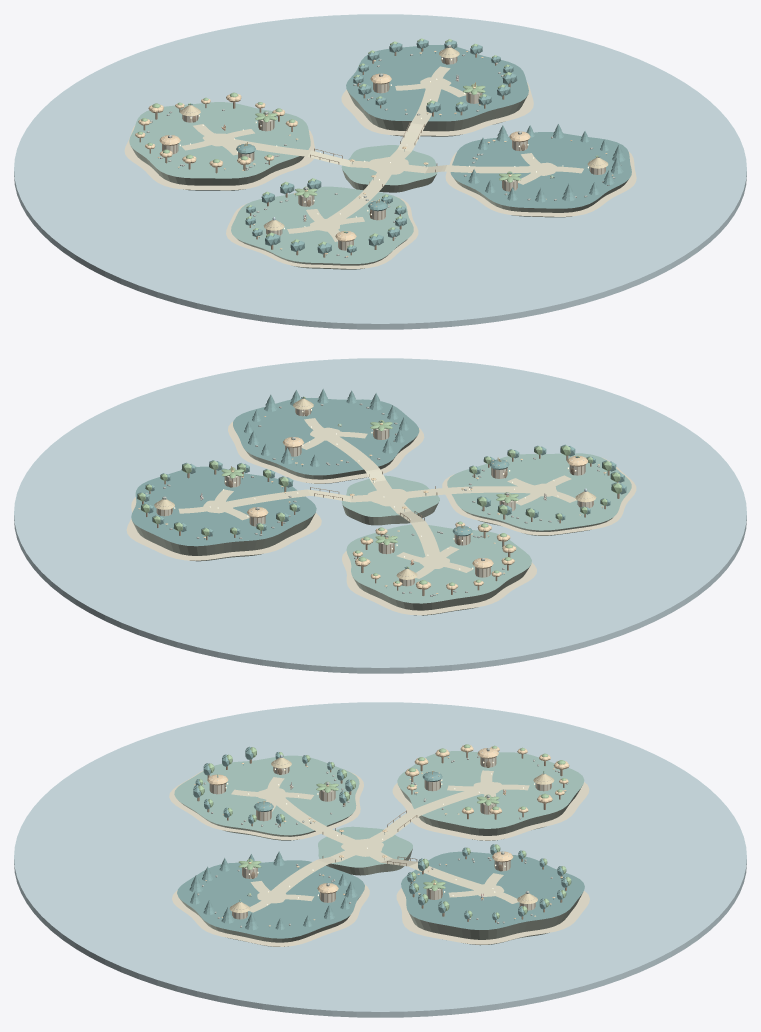
The model's file is grade6-terrain.glb.
The picture shows the model from 3 angles, top to bottom: view 1: azimuth 30°, elevation 25°; view 2: azimuth 150°, elevation 25°; view 3: azimuth 270°, elevation 25°; orthographic projection.
Visible parts, largest first — view 1: Nature_water, Walk_Nature_grass, Walk_Nature_deep, Walk_Nature_path, Nature_sand, Nature_deep, Nature_soil, Nature_flower, Nature_cream, Nature_leaf, Nature_wood, Nature_reed; view 2: Nature_water, Walk_Nature_grass, Walk_Nature_deep, Walk_Nature_path, Nature_sand, Nature_soil, Nature_deep, Nature_leaf, Nature_flower, Nature_cream, Nature_wood, Nature_reed (+1 smaller); view 3: Nature_water, Walk_Nature_grass, Walk_Nature_deep, Walk_Nature_path, Nature_sand, Nature_soil, Nature_deep, Nature_leaf, Nature_cream, Nature_flower, Nature_wood, Nature_reed.
Part boxes in pixels (<box>): Nature_water: <box>14,14,746,329</box>; Walk_Nature_grass: <box>129,102,437,263</box>; Walk_Nature_deep: <box>346,45,631,208</box>; Walk_Nature_path: <box>181,66,583,241</box>; Nature_sand: <box>124,82,636,268</box>; Nature_deep: <box>158,39,625,255</box>; Nature_soil: <box>131,90,628,269</box>; Nature_flower: <box>135,51,613,256</box>; Nature_cream: <box>162,51,605,250</box>; Nature_leaf: <box>137,38,598,247</box>; Nature_wood: <box>139,48,605,257</box>; Nature_reed: <box>180,47,608,230</box>; Nature_water: <box>14,358,746,673</box>; Walk_Nature_grass: <box>341,453,631,603</box>; Walk_Nature_deep: <box>131,398,419,546</box>; Walk_Nature_path: <box>178,418,576,578</box>; Nature_sand: <box>126,421,636,615</box>; Nature_soil: <box>132,436,612,615</box>; Nature_deep: <box>137,389,626,594</box>; Nature_leaf: <box>138,397,621,585</box>; Nature_flower: <box>138,416,606,593</box>; Nature_cream: <box>157,401,593,586</box>; Nature_wood: <box>142,408,619,595</box>; Nature_reed: <box>154,398,596,579</box>; Nature_water: <box>14,702,746,1017</box>; Walk_Nature_grass: <box>174,751,584,867</box>; Walk_Nature_deep: <box>177,851,584,938</box>; Walk_Nature_path: <box>231,770,529,912</box>; Nature_sand: <box>169,770,589,946</box>; Nature_soil: <box>178,787,582,946</box>; Nature_deep: <box>189,746,568,930</box>; Nature_leaf: <box>198,744,571,918</box>; Nature_cream: <box>210,749,551,919</box>; Nature_flower: <box>194,745,569,926</box>; Nature_wood: <box>197,752,566,922</box>; Nature_reed: <box>229,757,554,912</box>.
Size of the model in its own units: 170 by 10.98 by 170.
